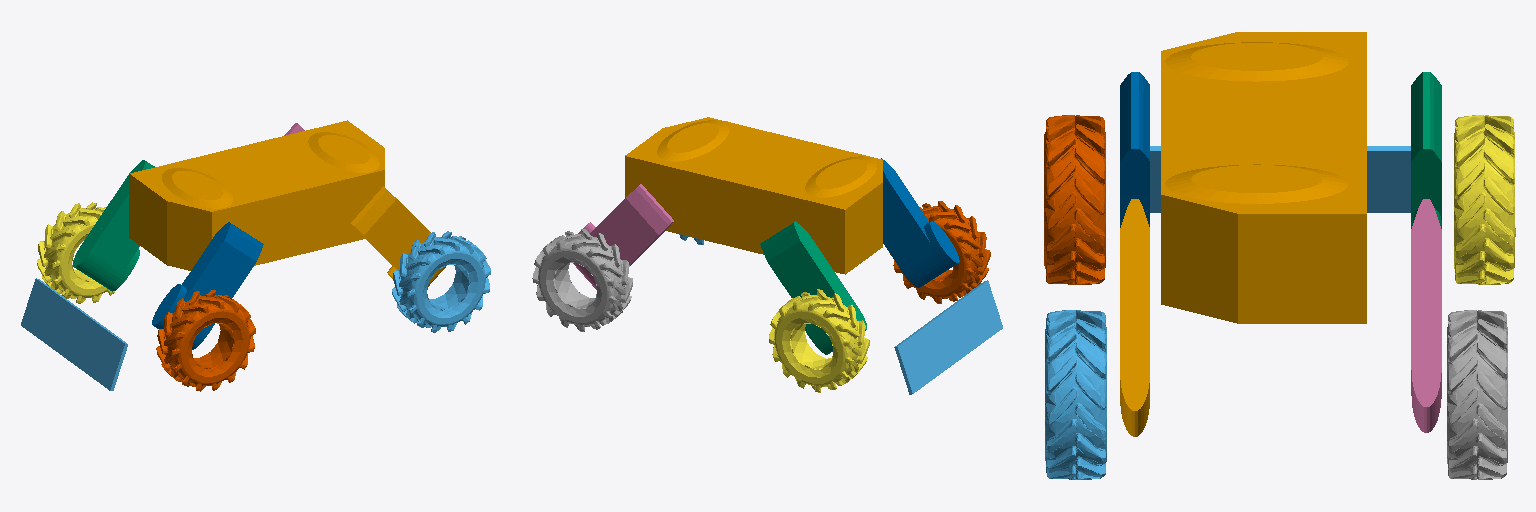
robot.urdf — Dagu5-Wheeled:
<?xml version="1.0"?>
<!-- created with Phobos 0.7 -->
  <robot name="Dagu5-Wheeled">

    <link name="link_Body">
      <inertial>
        <origin xyz="0 0 0" rpy="0 0 0"/>
        <mass value="500.0"/>
        <inertia ixx="320.401184" ixy="1.258749" ixz="6.643906" iyy="233.601669" iyz="0.888276" izz="275.717407"/>
      </inertial>
      <visual name="Body.001">
        <origin xyz="0 0 0" rpy="0 0 0"/>
        <geometry>
          <mesh filename="meshes/Cube.001.obj" scale="2.059298 1.0 0.507399"/>
        </geometry>
      </visual>
      <collision name="Body">
        <origin xyz="0 0 -0.079788" rpy="0 0 0"/>
        <geometry>
          <box size="3.604596 2.184321 0.871725"/>
        </geometry>
      </collision>
    </link>

    <link name="link_Plow">
      <visual name="Plow">
        <origin xyz="0 0 0" rpy="0 0 0"/>
        <geometry>
          <box size="0.057888 2.566197 0.729745"/>
        </geometry>
      </visual>
      <collision name="Plow.001">
        <origin xyz="0 0 0" rpy="0 0 0"/>
        <geometry>
          <box size="0.057888 2.566197 0.729745"/>
        </geometry>
      </collision>
    </link>

    <link name="link_bl_Leg">
      <inertial>
        <origin xyz="0 0 0" rpy="0 0 0"/>
        <mass value="20.0"/>
        <inertia ixx="12.39954" ixy="0.039447" ixz="-2.498814" iyy="30.488501" iyz="-0.068993" izz="29.675406"/>
      </inertial>
      <visual name="bl_Leg.001">
        <origin xyz="0 0 0" rpy="-3.141593 0 0"/>
        <geometry>
          <mesh filename="meshes/Cube.003.obj" scale="0.68 0.126 0.353675"/>
        </geometry>
      </visual>
      <collision name="bl_Leg">
        <origin xyz="0.518794 0.013662 -0.004787" rpy="0 0 0"/>
        <geometry>
          <box size="1.837332 0.298121 0.712926"/>
        </geometry>
      </collision>
    </link>

    <link name="link_bl_Wheel">
      <inertial>
        <origin xyz="0 0 0" rpy="0 0 0"/>
        <mass value="10.0"/>
        <inertia ixx="2.7847" ixy="-2.4e-05" ixz="0.00011" iyy="1.587515" iyz="5.5e-05" izz="1.588269"/>
      </inertial>
      <visual name="tractor_wheel.004">
        <origin xyz="0 0 0" rpy="0 0 0"/>
        <geometry>
          <mesh filename="meshes/tractor_wheel.004.obj" scale="1.0 1.0 1.0"/>
        </geometry>
      </visual>
      <collision name="tractor_wheel.007">
        <origin xyz="0 0 0" rpy="0 0 0"/>
        <geometry>
          <mesh filename="meshes/tractor_wheel.007.obj" scale="1.0 1.0 1.0"/>
        </geometry>
      </collision>
    </link>

    <link name="link_br_Leg">
      <inertial>
        <origin xyz="0 0 0" rpy="0 0 0"/>
        <mass value="20.0"/>
        <inertia ixx="12.39954" ixy="-0.039444" ixz="2.498815" iyy="30.488501" iyz="-0.068995" izz="29.675413"/>
      </inertial>
      <visual name="br_Leg.001">
        <origin xyz="0 0 0" rpy="0 0 0"/>
        <geometry>
          <mesh filename="meshes/Cube.006.obj" scale="0.68 0.126 0.353675"/>
        </geometry>
      </visual>
      <collision name="br_Leg">
        <origin xyz="0.511115 -0.014852 -0.004787" rpy="0 0 0"/>
        <geometry>
          <box size="1.837332 0.389566 0.712926"/>
        </geometry>
      </collision>
    </link>

    <link name="link_br_Wheel">
      <inertial>
        <origin xyz="0 0 0" rpy="0 0 0"/>
        <mass value="10.0"/>
        <inertia ixx="2.784698" ixy="-2.4e-05" ixz="0.000111" iyy="1.587515" iyz="5.5e-05" izz="1.588269"/>
      </inertial>
      <visual name="tractor_wheel">
        <origin xyz="0 0 0" rpy="0 0 0"/>
        <geometry>
          <mesh filename="meshes/tractor_wheel.obj" scale="1.0 1.0 1.0"/>
        </geometry>
      </visual>
      <collision name="tractor_wheel.005">
        <origin xyz="0 0 0" rpy="0 0 0"/>
        <geometry>
          <mesh filename="meshes/tractor_wheel.001.obj" scale="1.0 1.0 1.0"/>
        </geometry>
      </collision>
    </link>

    <link name="link_fl_Leg">
      <inertial>
        <origin xyz="0 0 0" rpy="0 0 0"/>
        <mass value="20.0"/>
        <inertia ixx="12.399551" ixy="0.039452" ixz="-2.498817" iyy="30.488501" iyz="-0.069002" izz="29.675413"/>
      </inertial>
      <visual name="fl_Leg">
        <origin xyz="0 0 0" rpy="-3.141593 0 0"/>
        <geometry>
          <mesh filename="meshes/Cube.002.obj" scale="0.680185 0.126111 0.353675"/>
        </geometry>
      </visual>
      <collision name="fl_Leg.001">
        <origin xyz="0.528119 -0.014687 -0.004787" rpy="0 0 0"/>
        <geometry>
          <box size="1.837832 0.298121 0.712926"/>
        </geometry>
      </collision>
    </link>

    <link name="link_fl_Wheel">
      <inertial>
        <origin xyz="0 0 0" rpy="0 0 0"/>
        <mass value="10.0"/>
        <inertia ixx="2.784698" ixy="-2.3e-05" ixz="0.000111" iyy="1.587514" iyz="5.5e-05" izz="1.588269"/>
      </inertial>
      <visual name="tractor_wheel.003">
        <origin xyz="0 0 0" rpy="0 0 0"/>
        <geometry>
          <mesh filename="meshes/tractor_wheel.003.obj" scale="1.0 1.0 1.0"/>
        </geometry>
      </visual>
      <collision name="tractor_wheel.006">
        <origin xyz="0 0 0" rpy="0 0 0"/>
        <geometry>
          <mesh filename="meshes/tractor_wheel.006.obj" scale="1.0 1.0 1.0"/>
        </geometry>
      </collision>
    </link>

    <link name="link_fr_Leg">
      <inertial>
        <origin xyz="0 0 0" rpy="0 0 0"/>
        <mass value="20.0"/>
        <inertia ixx="12.399551" ixy="-0.039455" ixz="2.498813" iyy="30.488501" iyz="-0.069003" izz="29.675413"/>
      </inertial>
      <visual name="fr_Leg">
        <origin xyz="0 0 0" rpy="0 0 0"/>
        <geometry>
          <mesh filename="meshes/Cube.005.obj" scale="0.680185 0.126 0.353675"/>
        </geometry>
      </visual>
      <collision name="fr_Leg.001">
        <origin xyz="0.523355 -0.016815 -0.004787" rpy="0 0 0"/>
        <geometry>
          <box size="1.837831 0.379697 0.712926"/>
        </geometry>
      </collision>
    </link>

    <link name="link_fr_Wheel">
      <inertial>
        <origin xyz="0 0 0" rpy="0 0 0"/>
        <mass value="10.0"/>
        <inertia ixx="2.7847" ixy="-2.3e-05" ixz="0.000111" iyy="1.587514" iyz="5.5e-05" izz="1.588269"/>
      </inertial>
      <visual name="tractor_wheel.002">
        <origin xyz="0 0 0" rpy="0 0 0"/>
        <geometry>
          <mesh filename="meshes/tractor_wheel.002.obj" scale="1.0 1.0 1.0"/>
        </geometry>
      </visual>
      <collision name="tractor_wheel.001">
        <origin xyz="0 0 0" rpy="0 0 0"/>
        <geometry>
          <mesh filename="meshes/tractor_wheel.005.obj" scale="1.0 1.0 1.0"/>
        </geometry>
      </collision>
    </link>

    <joint name="link_Plow" type="fixed">
      <origin xyz="-3.102032 0.038879 -1.46112" rpy="0 0.349066 0"/>
      <parent link="link_Body"/>
      <child link="link_Plow"/>
    </joint>

    <joint name="link_bl_Leg" type="fixed">
      <origin xyz="-1.2458 1.218903 -0.142793" rpy="0 2.268928 0"/>
      <parent link="link_Body"/>
      <child link="link_bl_Leg"/>
    </joint>

    <joint name="link_bl_Wheel" type="revolute">
      <origin xyz="1.19065 0.485843 0.090356" rpy="-2.443461 0 -1.570796"/>
      <parent link="link_bl_Leg"/>
      <child link="link_bl_Wheel"/>
      <limit effort="0" velocity="1.0"/>
    </joint>

    <joint name="link_br_Leg" type="fixed">
      <origin xyz="-1.2458 -1.2189 -0.142793" rpy="0 2.268928 0"/>
      <parent link="link_Body"/>
      <child link="link_br_Leg"/>
    </joint>

    <joint name="link_br_Wheel" type="revolute">
      <origin xyz="1.19065 -0.500957 0.090356" rpy="-2.443461 0 -1.570796"/>
      <parent link="link_br_Leg"/>
      <child link="link_br_Wheel"/>
      <limit effort="0" velocity="1.0"/>
    </joint>

    <joint name="link_fl_Leg" type="fixed">
      <origin xyz="1.245803 1.218903 -0.142793" rpy="0 0.872665 0"/>
      <parent link="link_Body"/>
      <child link="link_fl_Leg"/>
    </joint>

    <joint name="link_fl_Wheel" type="revolute">
      <origin xyz="1.185563 0.426807 -0.071985" rpy="2.443461 0 -1.570796"/>
      <parent link="link_fl_Leg"/>
      <child link="link_fl_Wheel"/>
      <limit effort="0" velocity="1.0"/>
    </joint>

    <joint name="link_fr_Leg" type="fixed">
      <origin xyz="1.245803 -1.2189 -0.142793" rpy="0 0.872665 0"/>
      <parent link="link_Body"/>
      <child link="link_fr_Leg"/>
    </joint>

    <joint name="link_fr_Wheel" type="revolute">
      <origin xyz="1.185563 -0.49331 -0.071985" rpy="2.443461 0 -1.570796"/>
      <parent link="link_fr_Leg"/>
      <child link="link_fr_Wheel"/>
      <limit effort="0" velocity="1.0"/>
    </joint>

  </robot>

--- What the picture shows (computed from the rendered views, not written in the file) ---
3 views of the same robot in one strip: view 1: azimuth 30°, elevation 25°; view 2: azimuth 150°, elevation 25°; view 3: azimuth 270°, elevation 25° (orthographic).
Model Dagu5-Wheeled with 10 links and 9 joints (4 revolute, 5 fixed), rooted at link_Body, posed all joints at 0.
Links seen in each view (by area): view 1: link_Body, link_br_Wheel, link_fr_Wheel, link_Plow, link_br_Leg, link_bl_Leg, link_bl_Wheel, link_fr_Leg; view 2: link_Body, link_fl_Wheel, link_bl_Wheel, link_Plow, link_br_Leg, link_bl_Leg, link_br_Wheel, link_fl_Leg; view 3: link_Body, link_fr_Wheel, link_br_Wheel, link_bl_Wheel, link_fl_Wheel, link_fl_Leg, link_fr_Leg, link_bl_Leg, link_br_Leg, link_Plow.
Boxes of the visible links, box(x1,y1,x2,y2) form: link_Body: box(129, 120, 384, 270); link_br_Wheel: box(156, 290, 255, 391); link_fr_Wheel: box(392, 231, 490, 332); link_Plow: box(21, 278, 127, 390); link_br_Leg: box(152, 222, 263, 349); link_bl_Leg: box(73, 160, 154, 291); link_bl_Wheel: box(37, 202, 126, 303); link_fr_Leg: box(349, 185, 445, 286); link_Body: box(625, 117, 882, 274); link_fl_Wheel: box(532, 229, 632, 331); link_bl_Wheel: box(769, 289, 869, 392); link_Plow: box(894, 280, 1002, 394); link_br_Leg: box(881, 158, 959, 287); link_bl_Leg: box(760, 221, 866, 354); link_br_Wheel: box(890, 201, 990, 303); link_fl_Leg: box(573, 184, 673, 289); link_Body: box(1161, 32, 1366, 323); link_fr_Wheel: box(1045, 310, 1106, 479); link_br_Wheel: box(1044, 115, 1105, 284); link_bl_Wheel: box(1454, 115, 1515, 284); link_fl_Wheel: box(1447, 310, 1507, 479); link_fl_Leg: box(1411, 199, 1441, 432); link_fr_Leg: box(1120, 199, 1149, 436); link_bl_Leg: box(1411, 72, 1441, 228); link_br_Leg: box(1120, 72, 1149, 227); link_Plow: box(1150, 146, 1410, 212).
Size in the robot's own frame: 5.92 by 3.94 by 2.38 metres.
Meshes: 9 distinct files referenced, 9 mesh visuals loaded (9 OBJ).